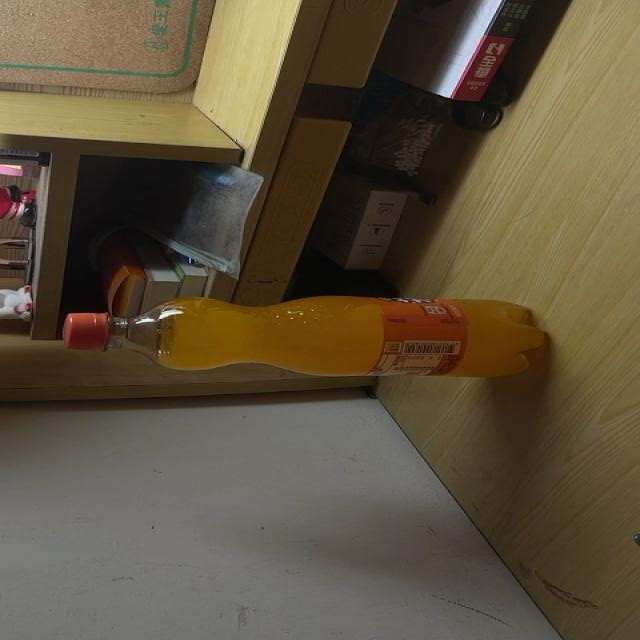Fanta: (61, 294, 545, 377)
